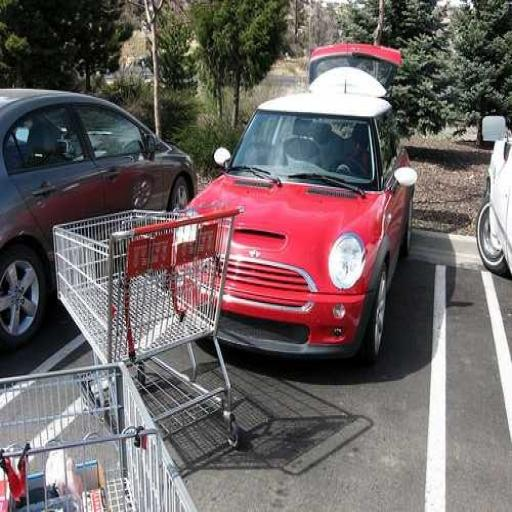shopping_cart: (52, 202, 244, 452), (0, 357, 197, 512)
